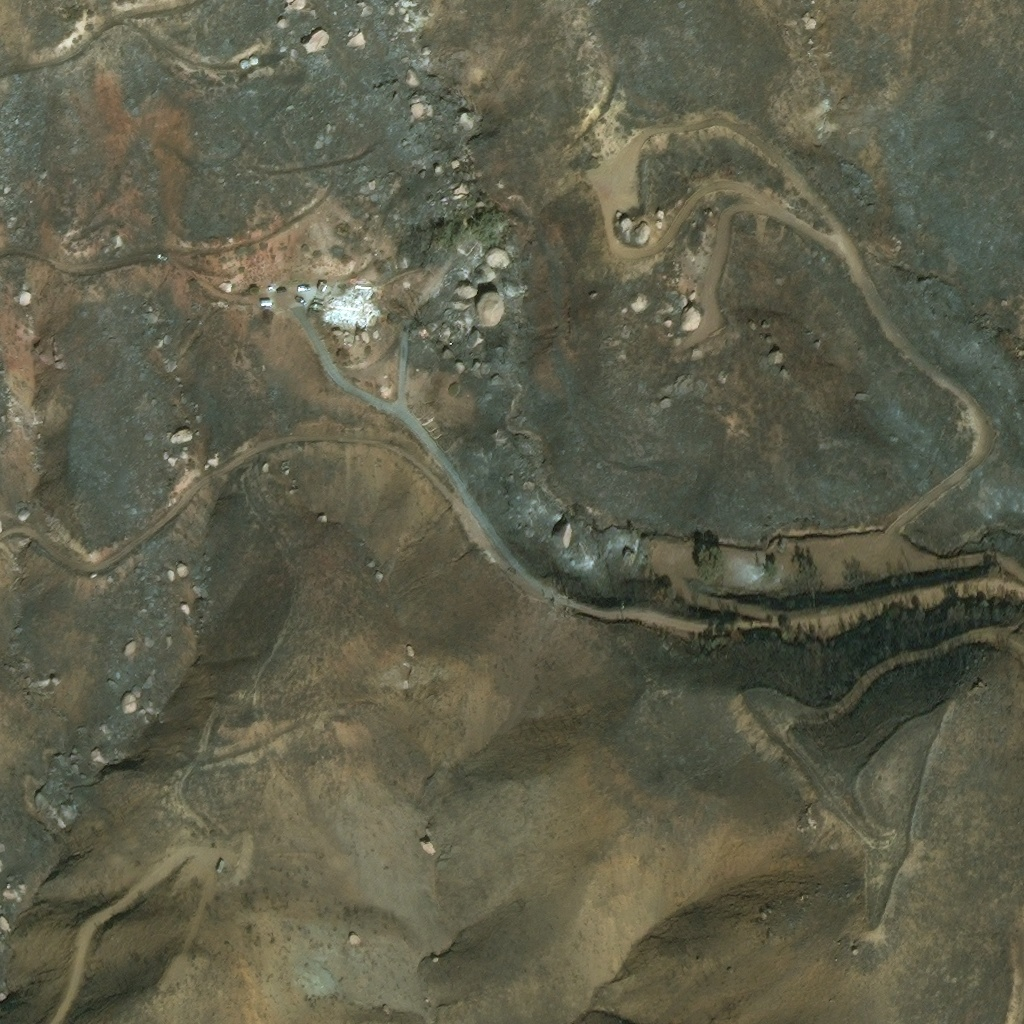3 destroyed: (323, 283, 373, 323)
